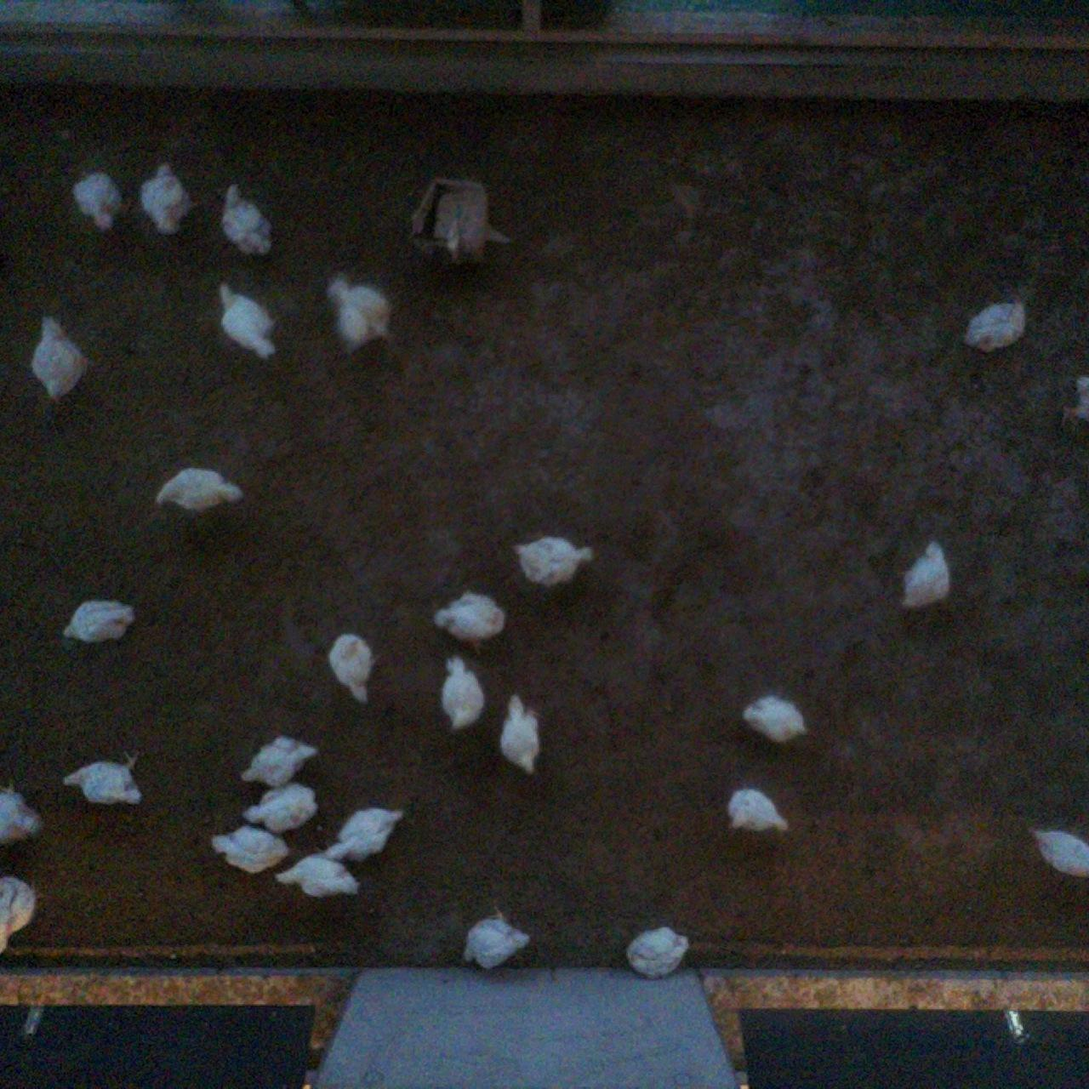chicken: (25, 311, 98, 406), (324, 270, 400, 352), (213, 278, 280, 363), (60, 745, 145, 810), (137, 159, 201, 240), (434, 589, 510, 656), (242, 777, 323, 839), (458, 907, 532, 974), (273, 846, 363, 901), (239, 730, 319, 790), (215, 181, 275, 261), (324, 805, 408, 861), (509, 534, 596, 588), (623, 918, 696, 981), (153, 463, 246, 512), (898, 539, 957, 613), (209, 822, 292, 874), (496, 689, 543, 779), (329, 630, 380, 707), (61, 594, 136, 646), (1024, 822, 1089, 881), (437, 654, 486, 732), (741, 690, 809, 746), (963, 296, 1029, 353), (0, 871, 43, 957), (0, 772, 48, 846), (724, 782, 790, 835), (70, 168, 125, 230), (1053, 374, 1089, 431)
